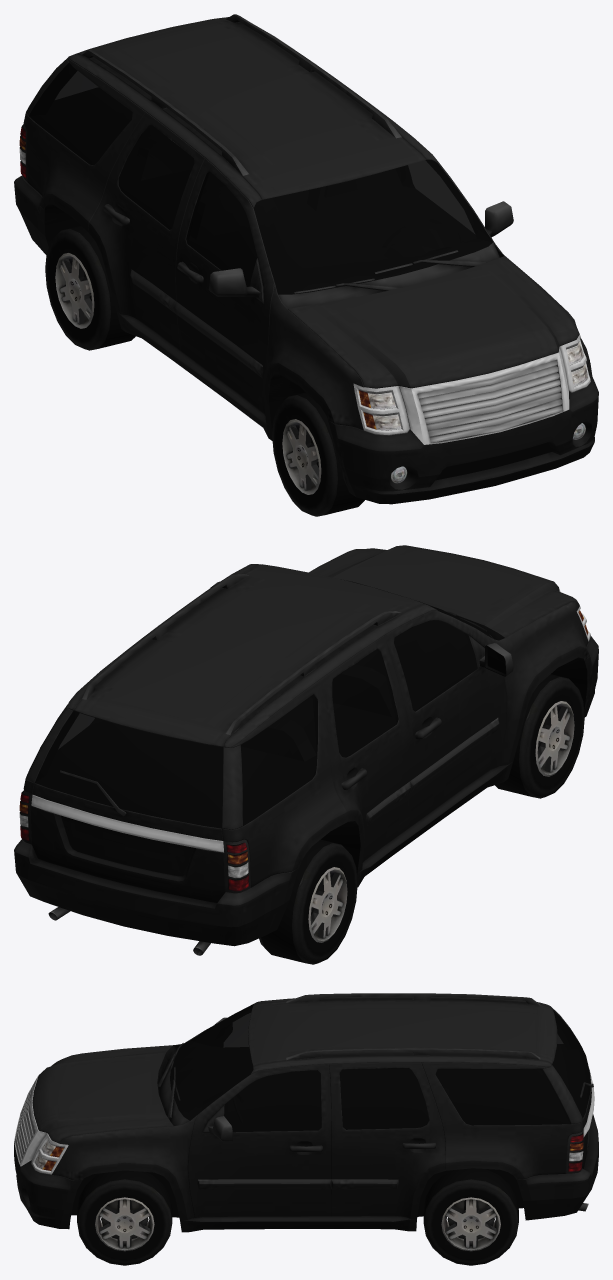
Rendered from suv-luxury.glb.
The picture shows the model from 3 angles, top to bottom: view 1: azimuth 30°, elevation 25°; view 2: azimuth 150°, elevation 25°; view 3: azimuth 270°, elevation 25°; orthographic projection. The views are drawn at different scales.
Visible parts, largest first — view 1: SUV Body_Body_0, SUV Body_Glass_0, Wheel_E003_Wheel_0, Wheel_E002_Wheel_0, SUV Body_Optics_0; view 2: SUV Body_Body_0, SUV Body_Glass_0, Wheel_E003_Wheel_0, Wheel_E002_Wheel_0, SUV Body_Optics_0; view 3: SUV Body_Body_0, SUV Body_Glass_0, Wheel_E001_Wheel_0, Wheel_E_Wheel_0, SUV Body_Optics_0.
Part boxes in pixels (x1,y1,x2,y2): SUV Body_Body_0: (14,14,598,504); SUV Body_Glass_0: (29,63,492,294); Wheel_E003_Wheel_0: (45,225,135,350); Wheel_E002_Wheel_0: (272,392,364,516); SUV Body_Optics_0: (19,124,588,483); SUV Body_Body_0: (14,545,598,955); SUV Body_Glass_0: (35,579,492,828); Wheel_E003_Wheel_0: (259,839,357,964); Wheel_E002_Wheel_0: (495,674,584,798); SUV Body_Optics_0: (19,610,588,891); SUV Body_Body_0: (14,993,598,1232); SUV Body_Glass_0: (170,1005,590,1132); Wheel_E001_Wheel_0: (423,1168,518,1265); Wheel_E_Wheel_0: (77,1170,172,1265); SUV Body_Optics_0: (34,1132,583,1171).
Size of the model in its own units: 2.2 by 1.84 by 4.9.
4 materials, 3 textured.
